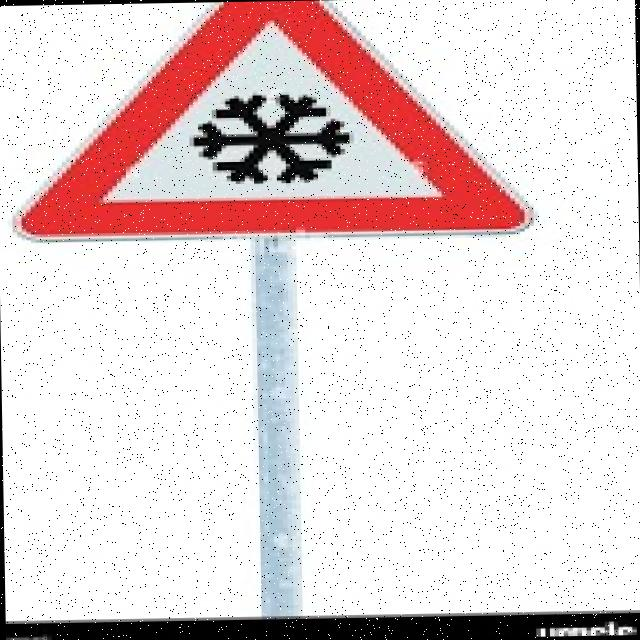snow_warning: (0, 0, 570, 261)
